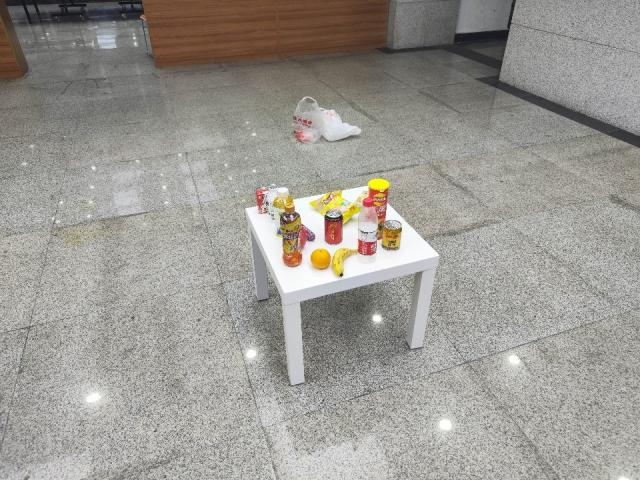Canned_drinks: (325, 208, 345, 245), (383, 219, 403, 251)
